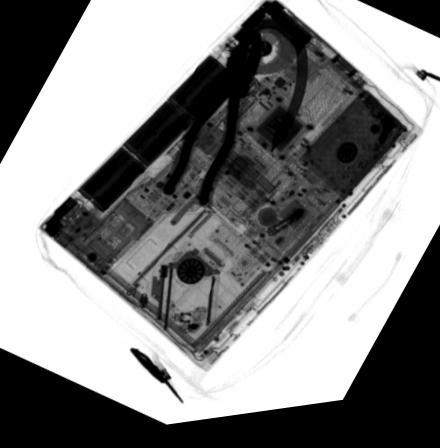Pliers: (156, 35, 266, 215)
